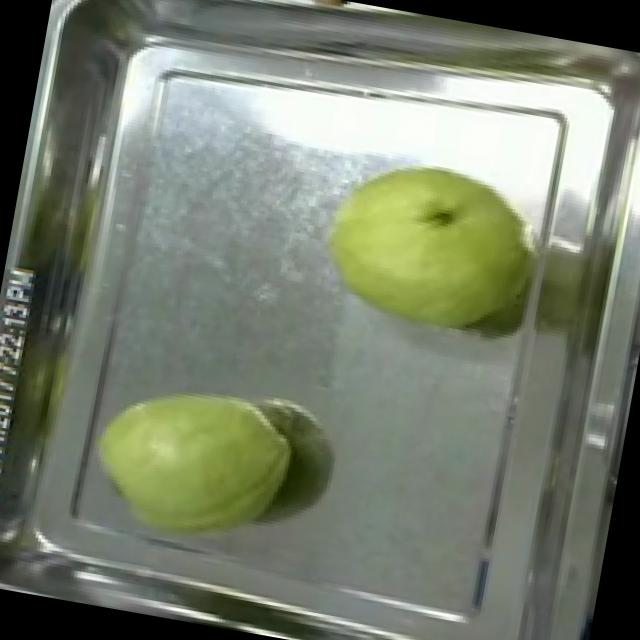Fruit: (70, 360, 312, 580), (302, 134, 548, 348)
